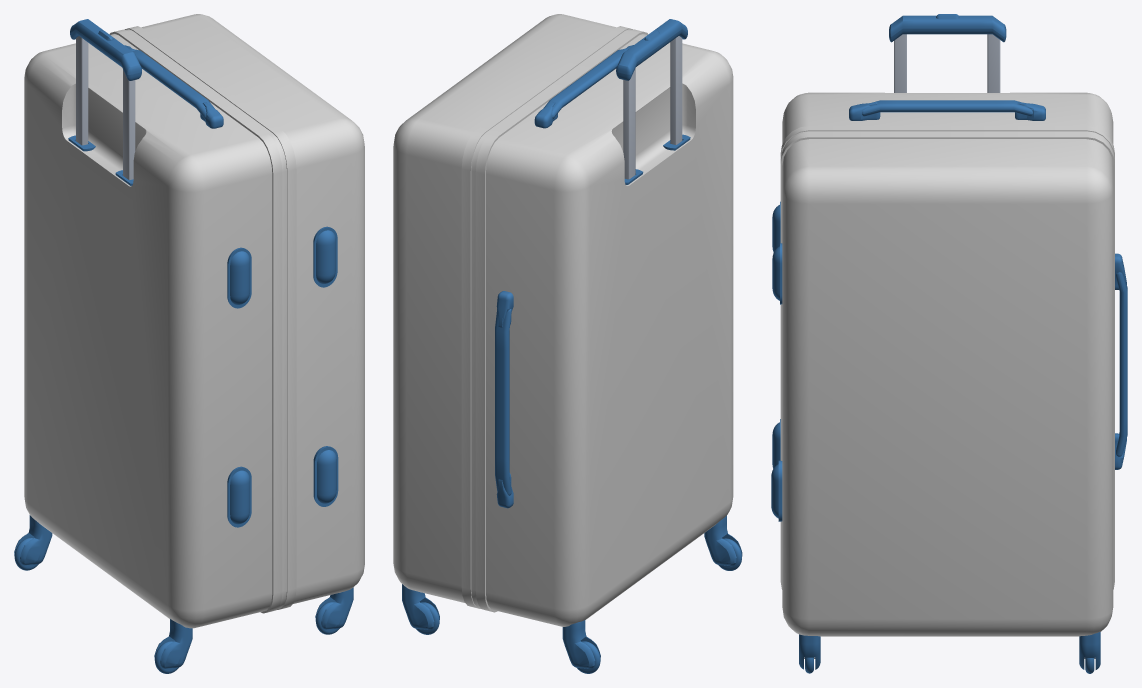
File: suitcase.gltf
3 views of the same model, side by side, from view 1: azimuth 30°, elevation 25°; view 2: azimuth 150°, elevation 25°; view 3: azimuth 270°, elevation 25° (orthographic).
Visible parts, largest first — view 1: Null_Boole_balitsa, Null_Boole_Cube, Null_xerouli2_xerouli21, Null_xerouli2_sidero1, Null_xerouli1_xerouli1, Null_xerouli2_sidero2, Null_Boole_6_Cube1, Null_podarakia_podaraki3, Null_Boole_3_Cube4, Null_podarakia_podaraki4, Null_podarakia_podaraki2, Null_podarakia_podaraki1 (+1 smaller); view 2: Null_Boole_balitsa, Null_Boole_Cube, Null_xerouli1_1_xerouli, Null_xerouli2_xerouli21, Null_xerouli2_sidero2, Null_xerouli2_sidero1, Null_xerouli1_xerouli1, Null_Boole_3_Cube4, Null_Boole_6_Cube1, Null_Boole_4_Cube3; view 3: Null_Boole_balitsa, Null_xerouli2_xerouli21, Null_xerouli1_xerouli1, Null_xerouli1_1_xerouli, Null_xerouli2_sidero1, Null_xerouli2_sidero2, Null_Boole_4_Cube3, Null_Boole_5_Cube2.
Part boxes in pixels (x1,y1,x2,y2): Null_Boole_balitsa: (24, 14, 364, 628); Null_Boole_Cube: (62, 83, 146, 186); Null_xerouli2_xerouli21: (70, 19, 141, 80); Null_xerouli2_sidero1: (76, 36, 88, 145); Null_xerouli1_xerouli1: (132, 49, 214, 119); Null_xerouli2_sidero2: (123, 69, 135, 179); Null_Boole_6_Cube1: (154, 619, 192, 668); Null_podarakia_podaraki3: (317, 450, 336, 503); Null_Boole_3_Cube4: (14, 515, 52, 565); Null_podarakia_podaraki4: (230, 470, 249, 524); Null_podarakia_podaraki2: (230, 251, 249, 304); Null_podarakia_podaraki1: (316, 230, 335, 283); Null_Boole_balitsa: (393, 14, 733, 626); Null_Boole_Cube: (611, 83, 695, 185); Null_xerouli1_1_xerouli: (495, 309, 511, 495); Null_xerouli2_xerouli21: (616, 19, 687, 80); Null_xerouli2_sidero2: (670, 36, 682, 144); Null_xerouli2_sidero1: (623, 68, 635, 179); Null_xerouli1_xerouli1: (543, 49, 625, 118); Null_Boole_3_Cube4: (562, 620, 600, 668); Null_Boole_6_Cube1: (704, 515, 742, 566); Null_Boole_4_Cube3: (402, 584, 439, 629); Null_Boole_balitsa: (780, 92, 1114, 636); Null_xerouli2_xerouli21: (889, 15, 1006, 42); Null_xerouli1_xerouli1: (862, 100, 1032, 116); Null_xerouli1_1_xerouli: (1116, 272, 1127, 456); Null_xerouli2_sidero1: (987, 34, 1000, 92); Null_xerouli2_sidero2: (894, 34, 906, 92); Null_Boole_4_Cube3: (1079, 632, 1100, 669); Null_Boole_5_Cube2: (799, 634, 820, 669).
Size of the model in its own units: 90.33 by 246 by 137.
